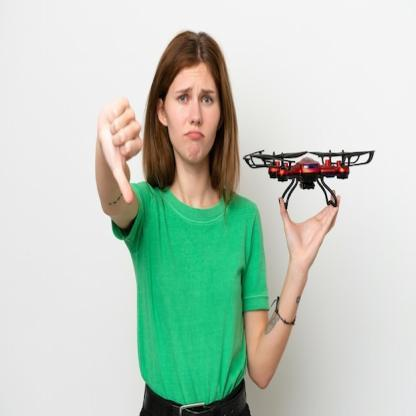thumb_down: (94, 95, 144, 206)
